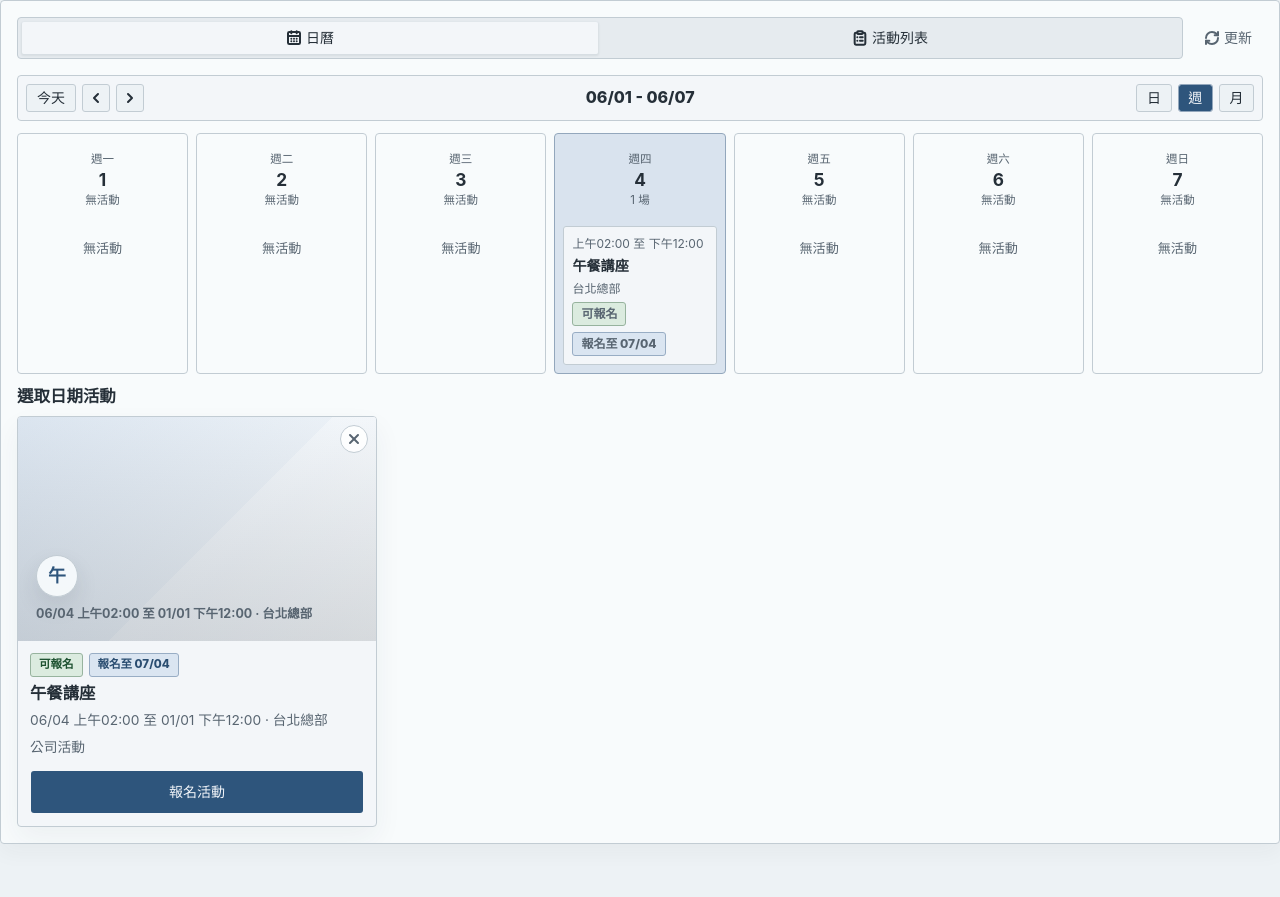
Test case: EmployeeEventsPage › switches day, week, and month views while keeping the URL shareable
The image size is (1280, 897).
Expected: the element named "週行事曆" is shown, [17, 133, 1263, 374]
Click the button "月" at (1236, 98), box [1219, 84, 1254, 112]
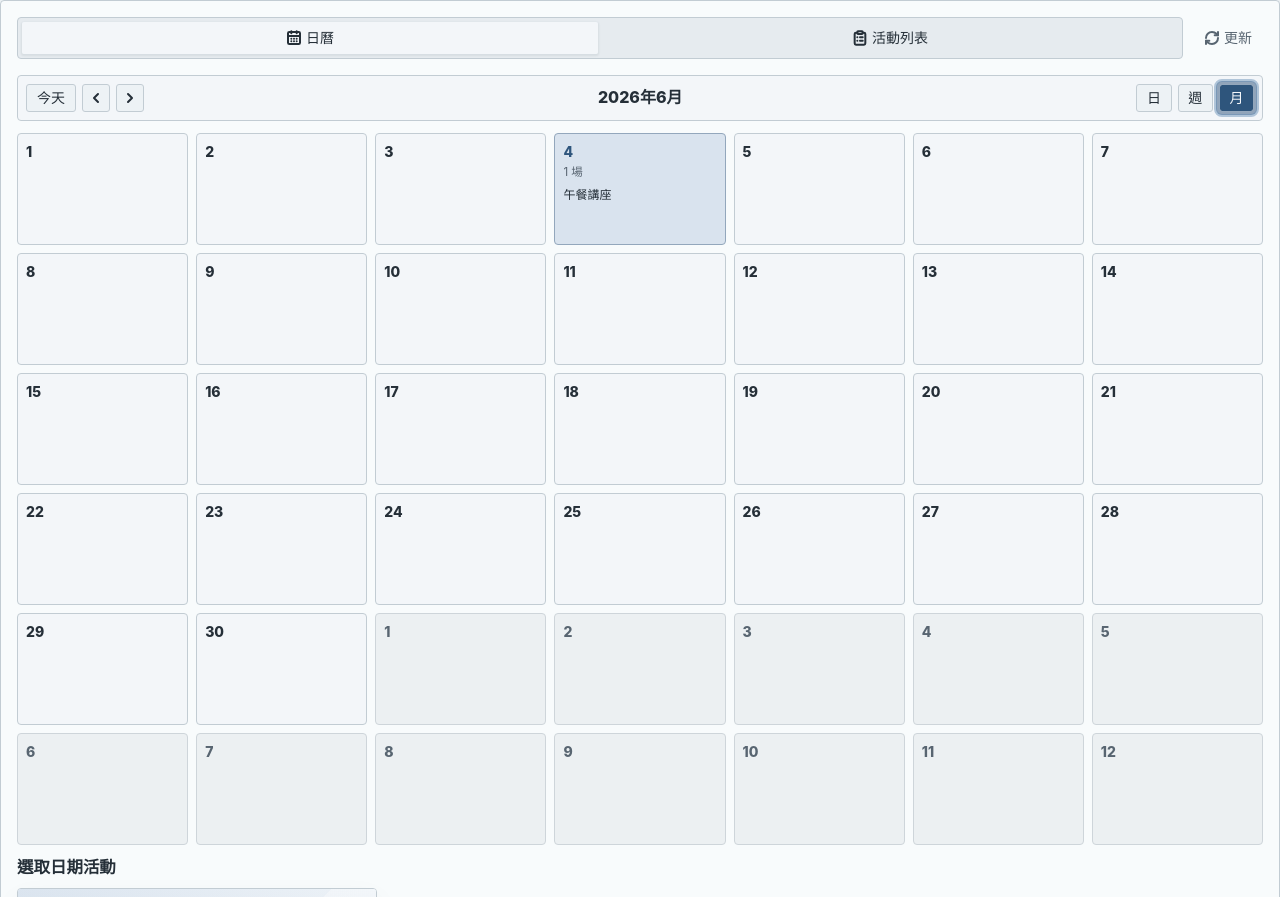
Result: the element named "月行事曆" is shown
Click the button "日" at (1154, 98), box [1136, 84, 1172, 112]
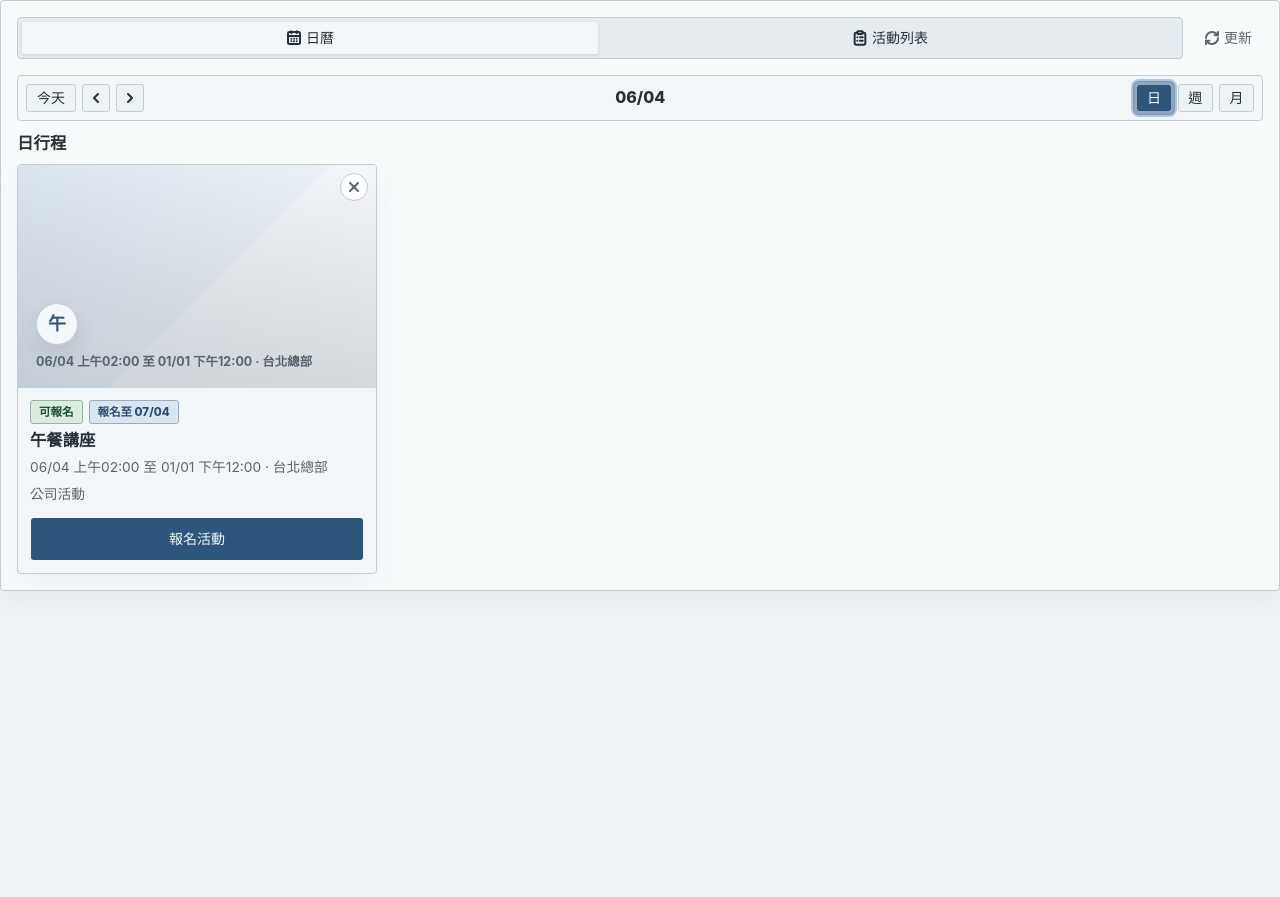
Result: the element labelled "日行程" is shown at [17, 133, 377, 574]
